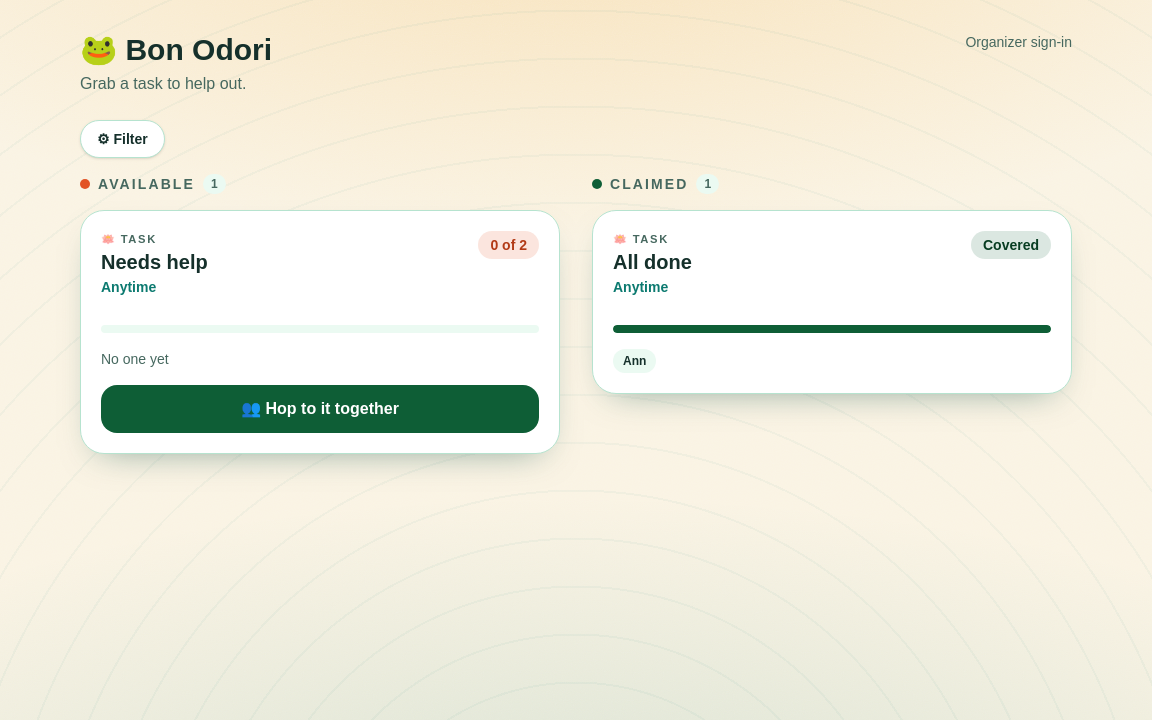
Scenario: closing the panel clears the hash
Click the text "Needs help" at (154, 262), box top-left (101, 250), bottom-right (208, 275)
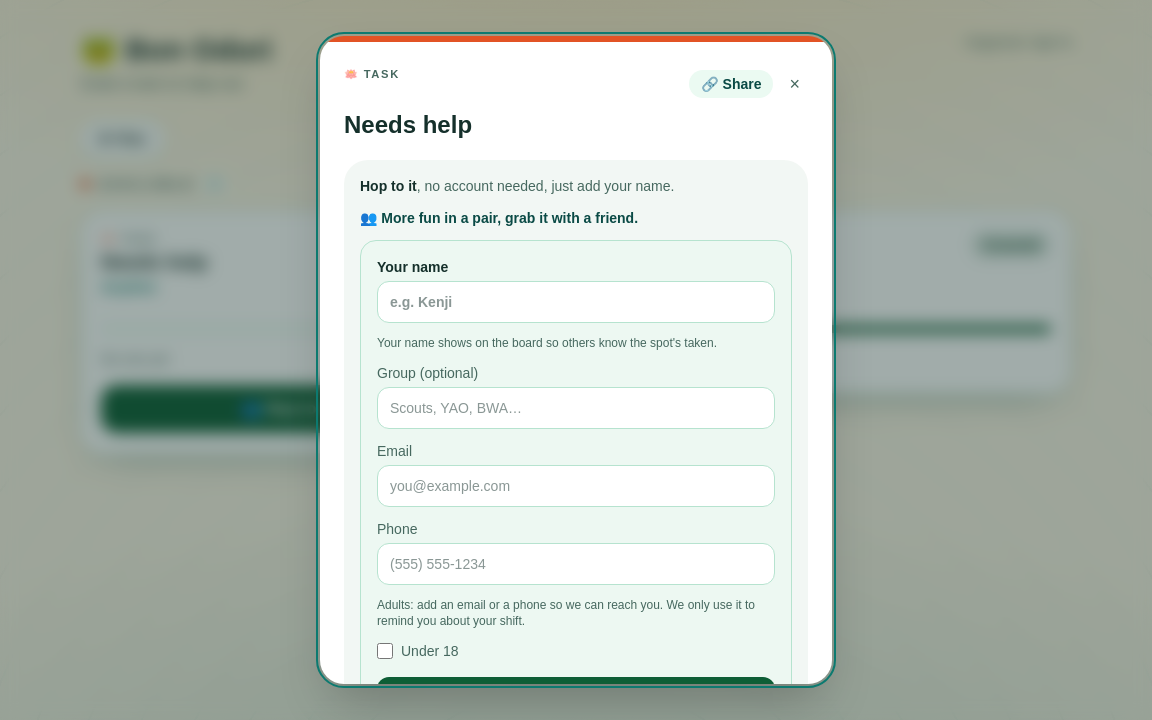
Click the button named "close details" at (69, 360), box top-left (0, 0), bottom-right (1151, 719)
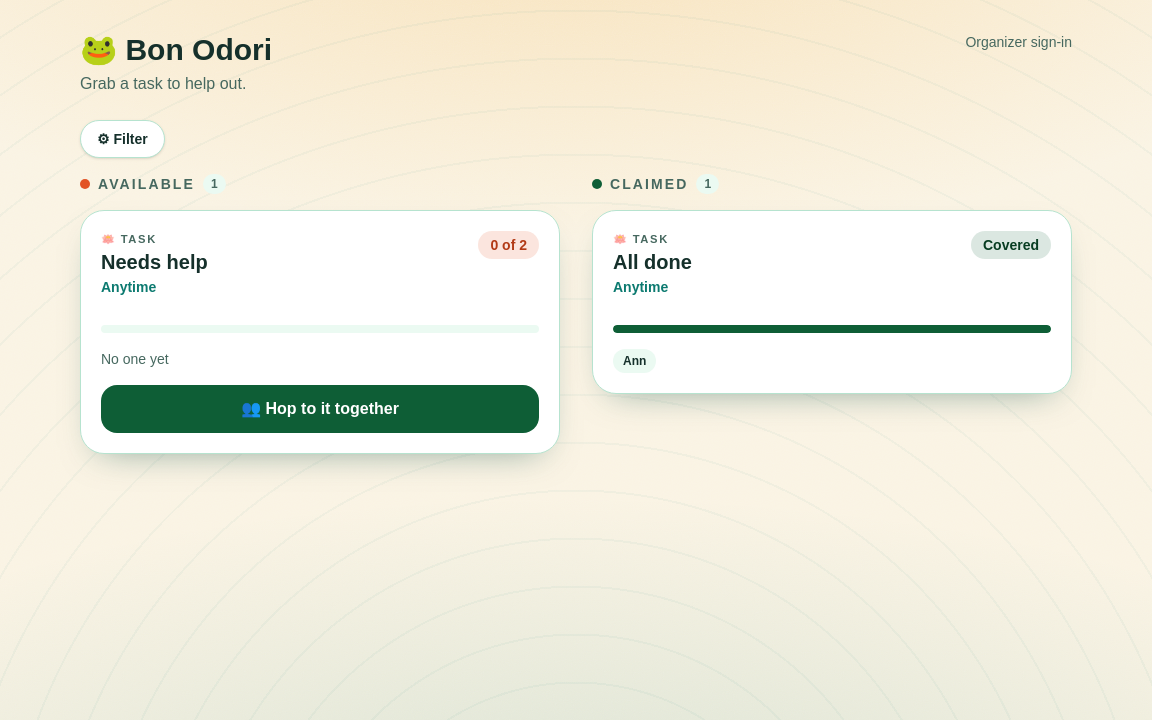
Expected: the dialog is gone
